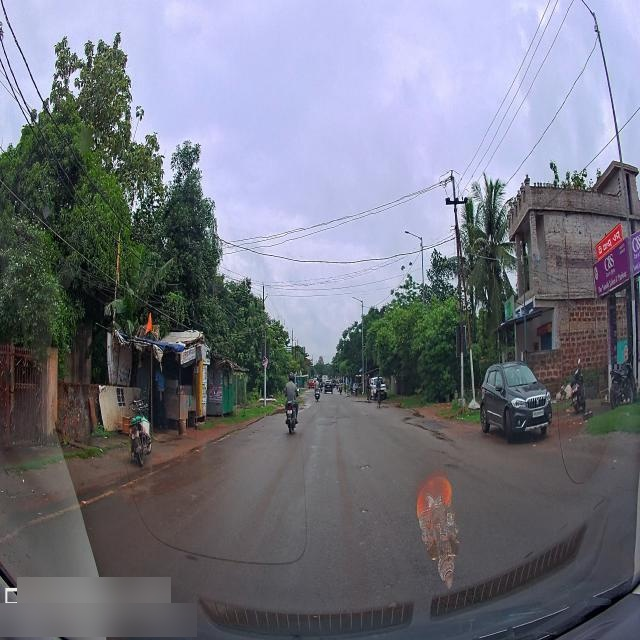pothole: (429, 428, 453, 447), (356, 458, 378, 474), (401, 408, 424, 420), (359, 500, 371, 519)
